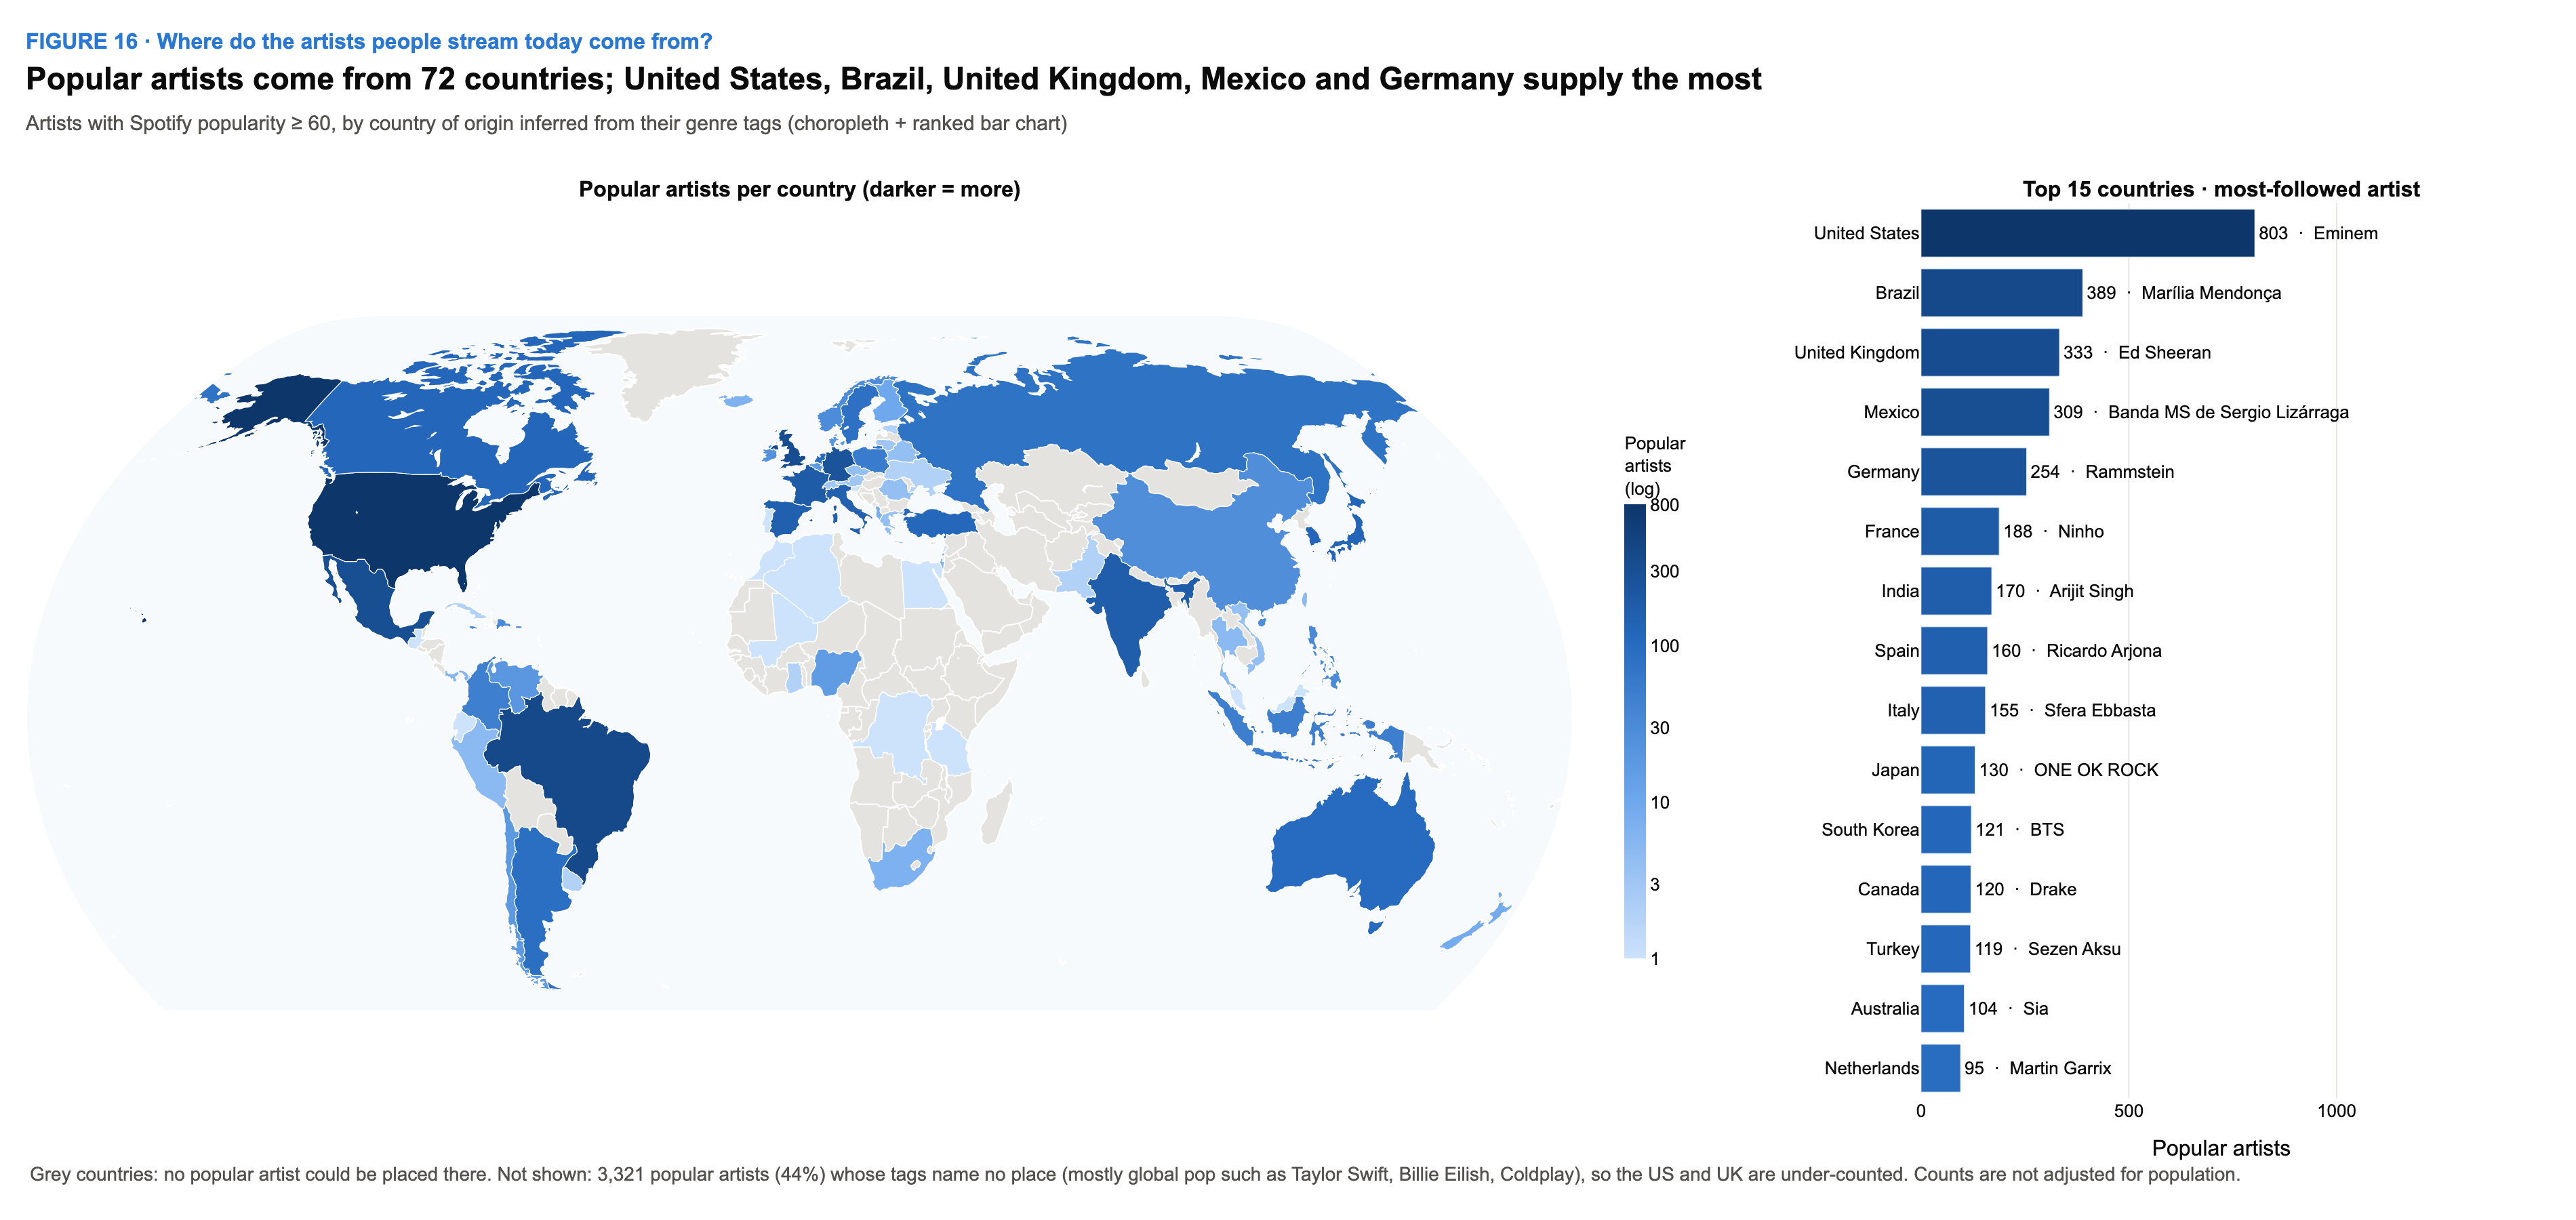

The page's visual inventory and layout, read from the dashboard file:
{"tool":"tableau","page":{"name":"Dashboard 1","canvas":[1000,800],"ordinal":0},"visuals":[{"type":"worksheet","title":"Sheet 1","mark":"Circle","rows":["lat_jitter"],"cols":["lon_jitter"],"box":[8,8,824,392]},{"type":"filter","title":"Sheet 1","param":"[federated.03xncb80ryyl5b158rs471obp5c8].[none:country:nk]","box":[832,8,160,52]},{"type":"legend","title":"Sheet 1","param":"[federated.03xncb80ryyl5b158rs471obp5c8].[none:year_score:qk]","box":[832,60,160,126]},{"type":"legend","title":"Sheet 1","param":"[federated.03xncb80ryyl5b158rs471obp5c8].[none:year_score:qk]","box":[832,186,160,65]},{"type":"parameter","param":"[Parameters].[Parameter 2328955700191232]","box":[832,251,160,75]},{"type":"parameter","param":"[Parameters].[Parameter 2328955700441089]","box":[832,326,160,75]},{"type":"worksheet","title":"Sheet 2","mark":"Bar","rows":["year_score"],"cols":["country","artist_name"],"box":[8,400,824,392]},{"type":"filter","title":"Sheet 2","param":"[federated.03xncb80ryyl5b158rs471obp5c8].[none:debut_year:qk]","box":[832,401,160,69]},{"type":"filter","title":"Sheet 2","param":"[federated.03xncb80ryyl5b158rs471obp5c8].[none:country:nk]","box":[832,470,160,322]}]}

Visuals, with their boxes on the page's 1000x800 design canvas (x1, y1, x2, y2). These are canvas units, not pixel positions in the 2576x1220 screenshot, which may show the page scaled, cropped or inside an application window:
"Sheet 1" worksheet (Circle marks): 8 8 832 400
"Sheet 1" filter: 832 8 992 60
"Sheet 1" legend: 832 60 992 186
"Sheet 1" legend: 832 186 992 251
parameter: 832 251 992 326
parameter: 832 326 992 401
"Sheet 2" worksheet (Bar marks): 8 400 832 792
"Sheet 2" filter: 832 401 992 470
"Sheet 2" filter: 832 470 992 792
